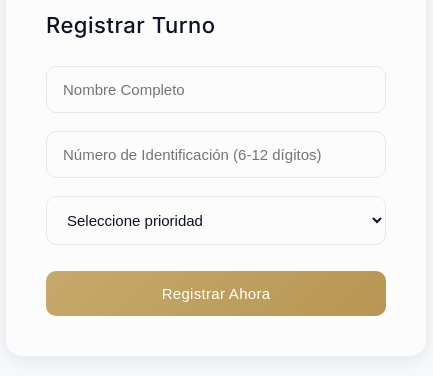
AppointmentRegistrationForm › Input Constraints › should only accept numeric input in ID card field
The width and height of the screenshot is (433, 376).
Type "123abc456def" into the field with placeholder "Número de Identificación (6-12 dígitos)" at x=216, y=154, box [46,131,386,178]
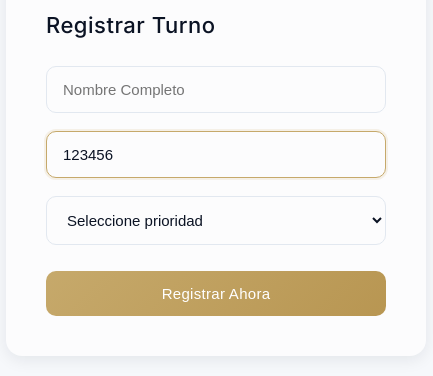
Result: the field with placeholder "Número de Identificación (6-12 dígitos)" holds "123456" at [46,131,386,178]
